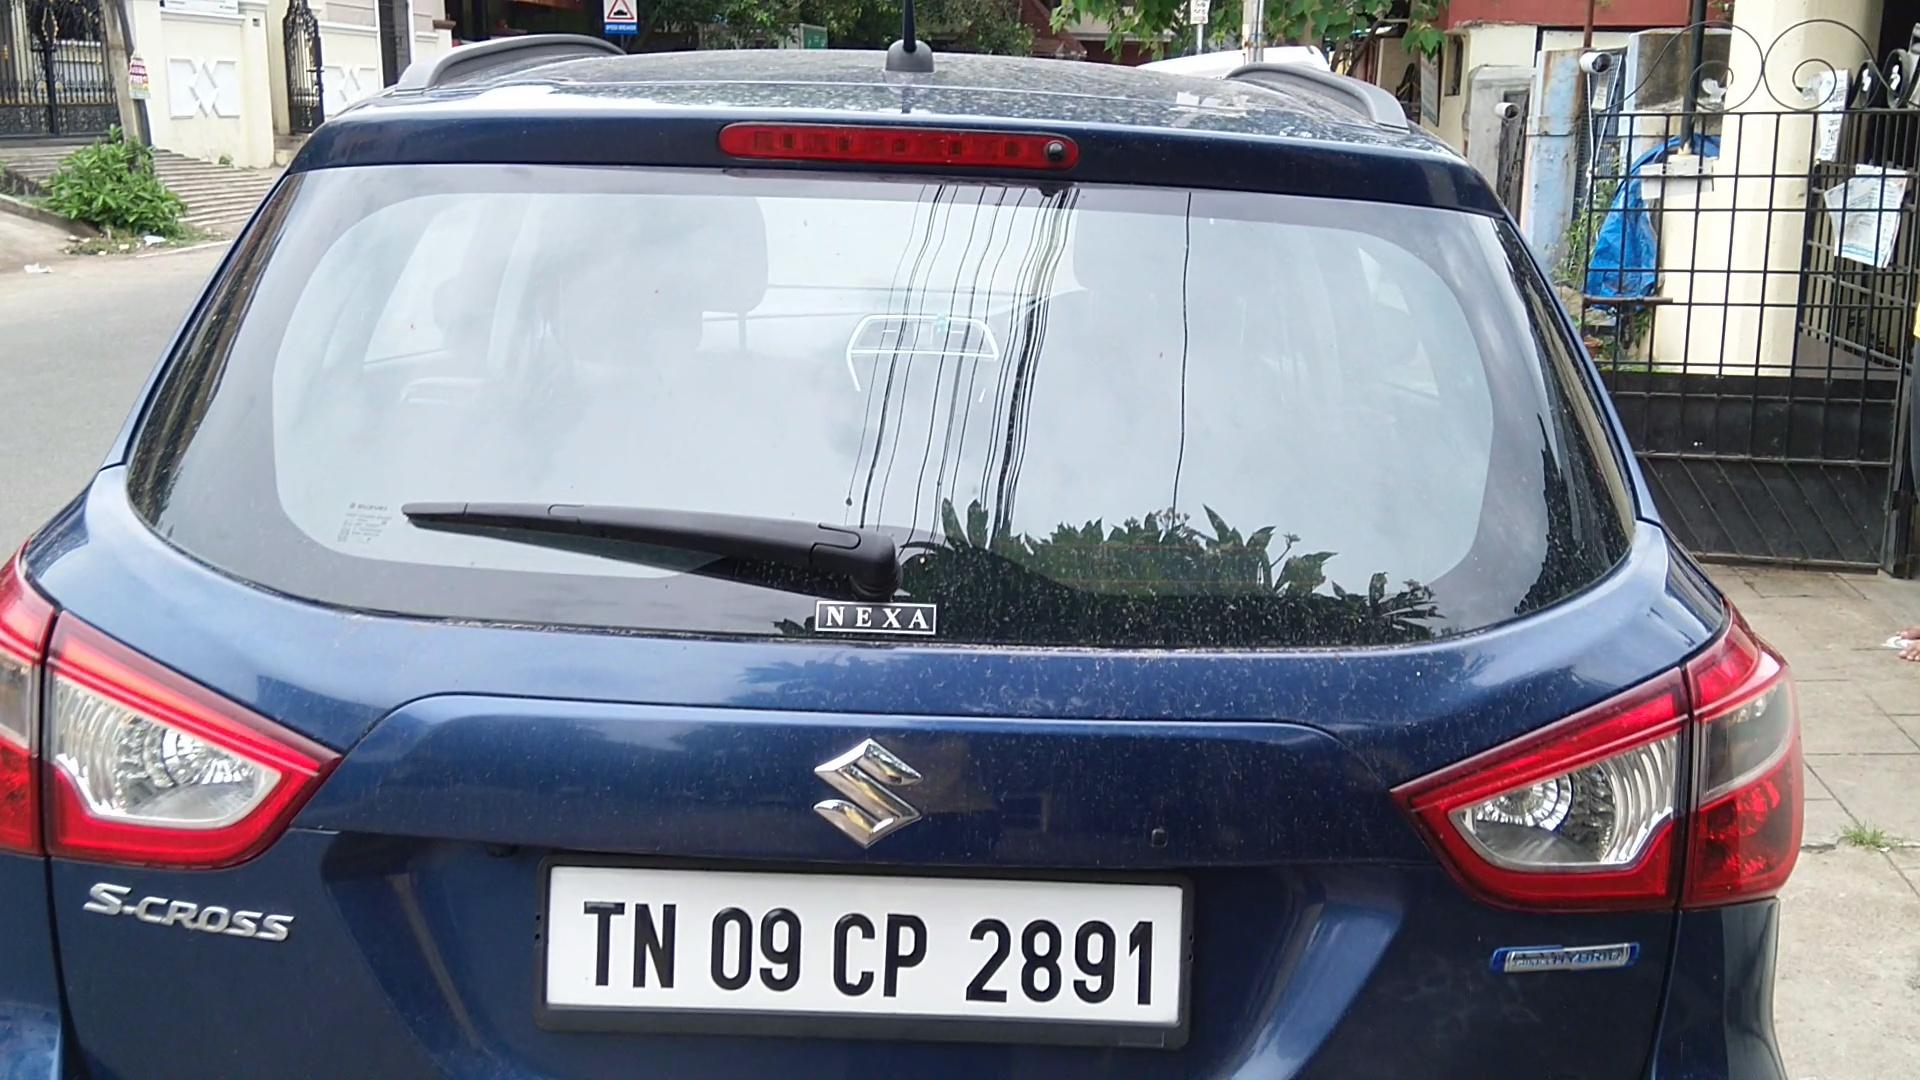rear_camera: (1040, 128, 1069, 181)
shvs: (1482, 924, 1647, 996)
